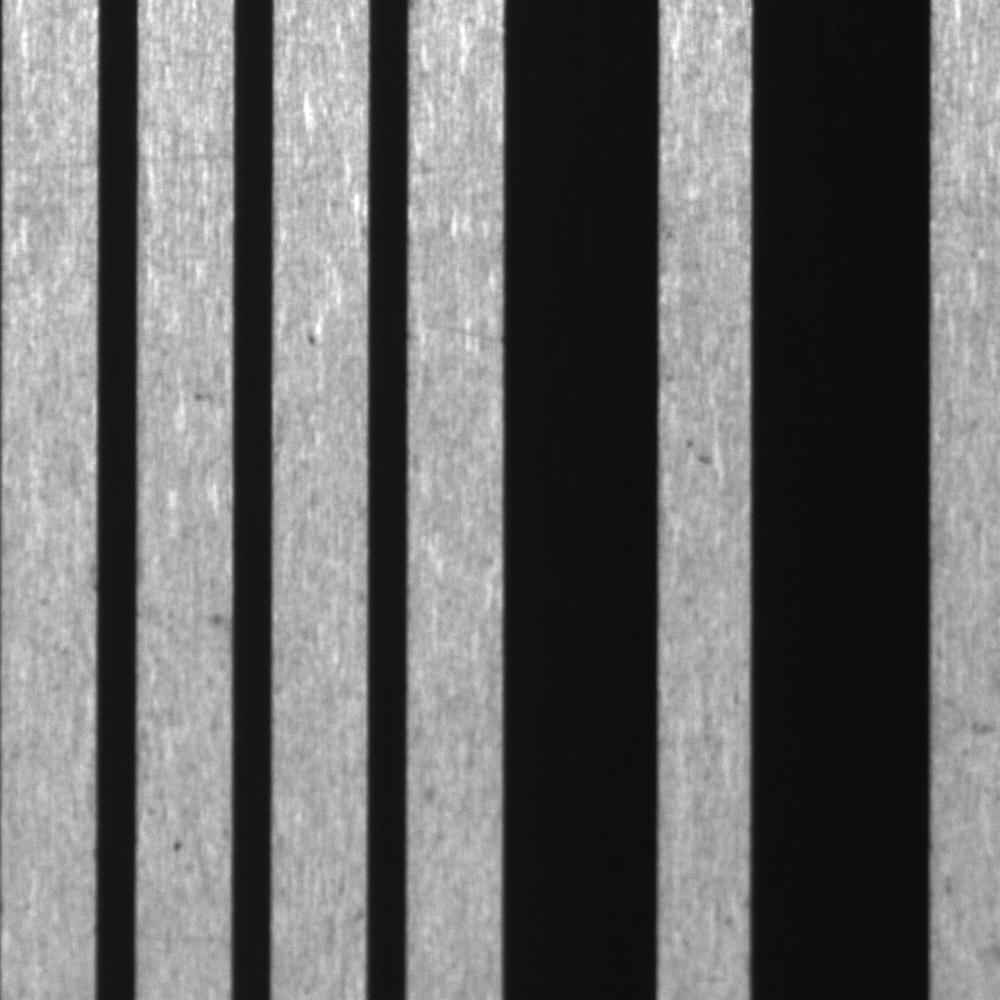Etching: (677, 403, 721, 492)
Pinhole: (288, 309, 340, 361), (198, 588, 234, 650), (182, 377, 214, 415), (161, 829, 189, 858)
Scar: (414, 297, 501, 357), (141, 132, 233, 177), (4, 150, 95, 180)
